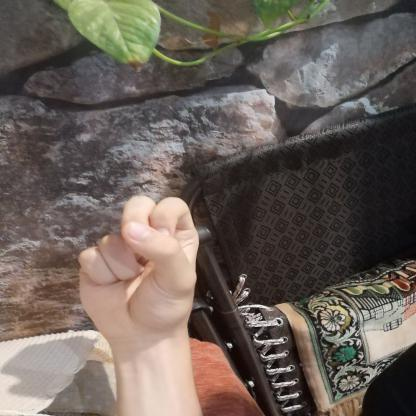QAAF: (60, 185, 213, 354)
